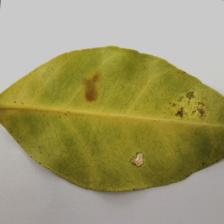canker: (81, 72, 211, 168)
